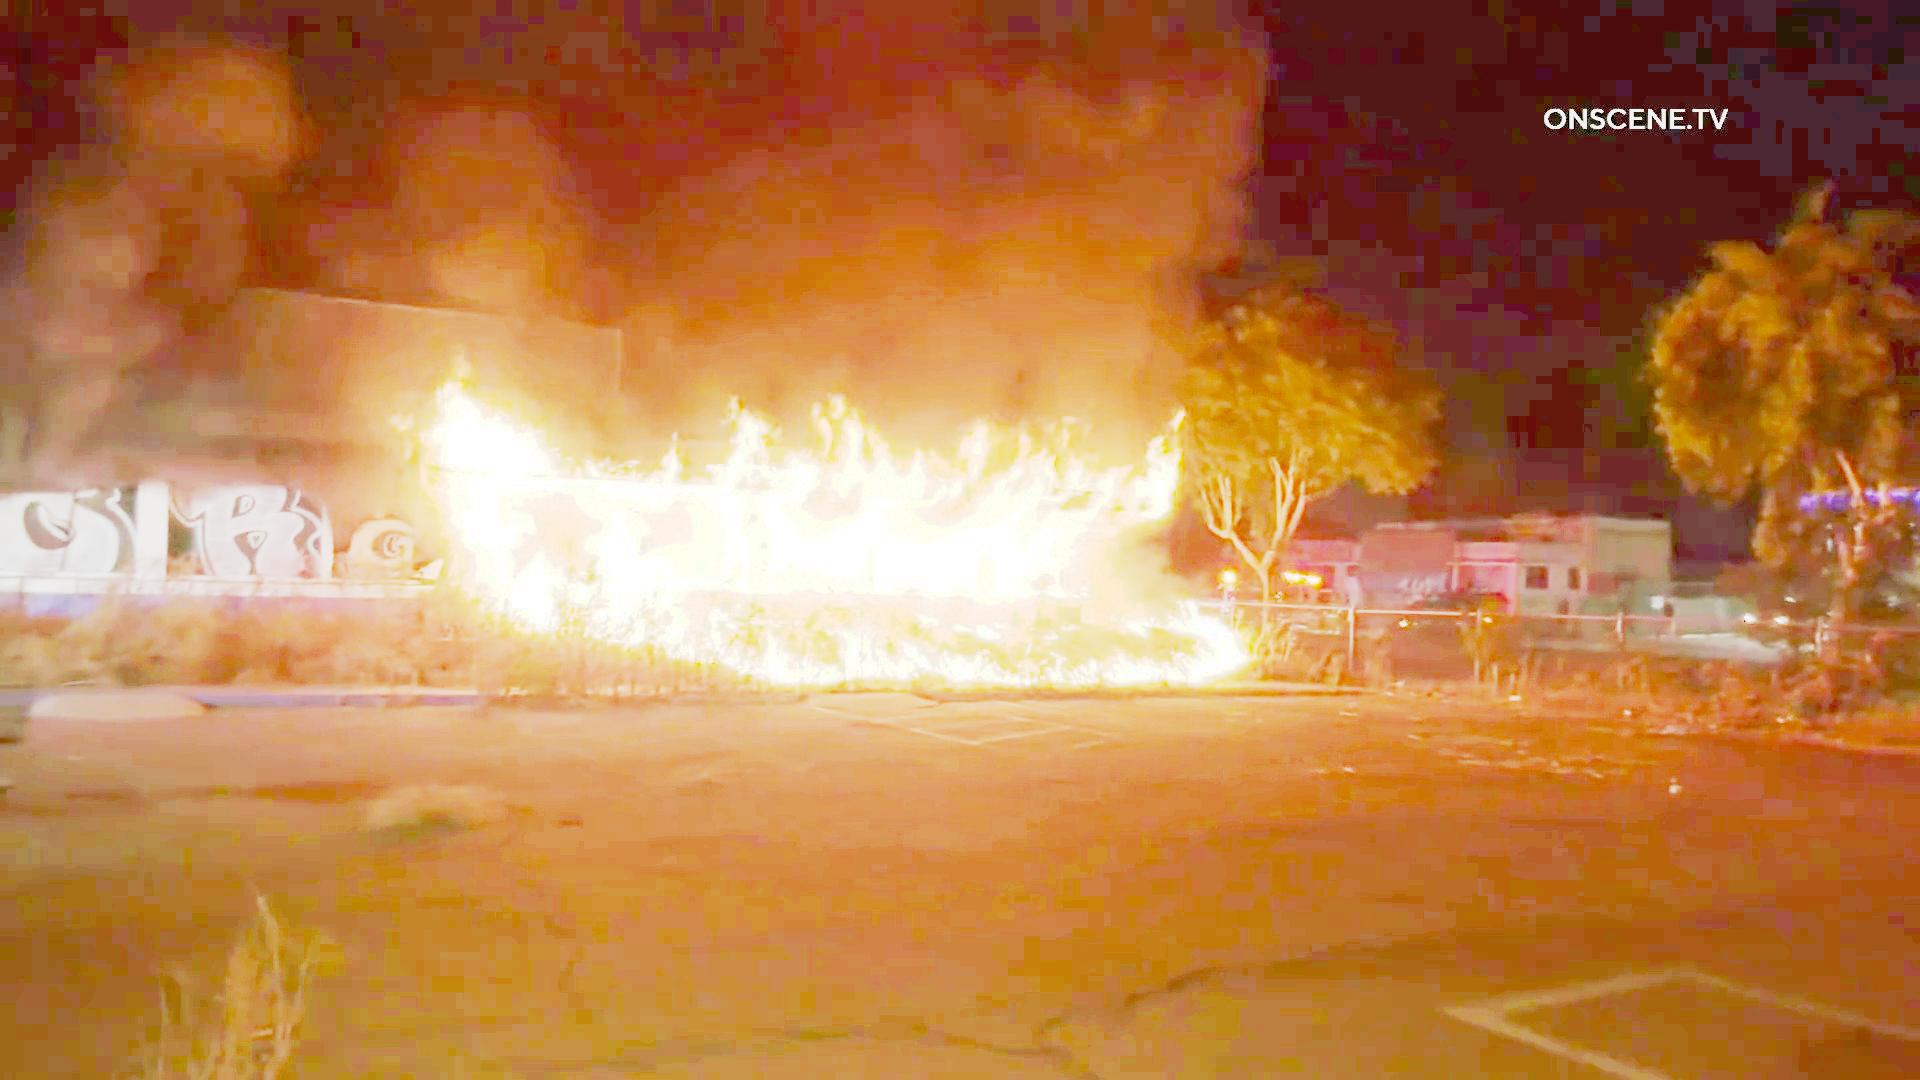fire: (443, 356, 1217, 727)
smoke: (327, 37, 1240, 294)
